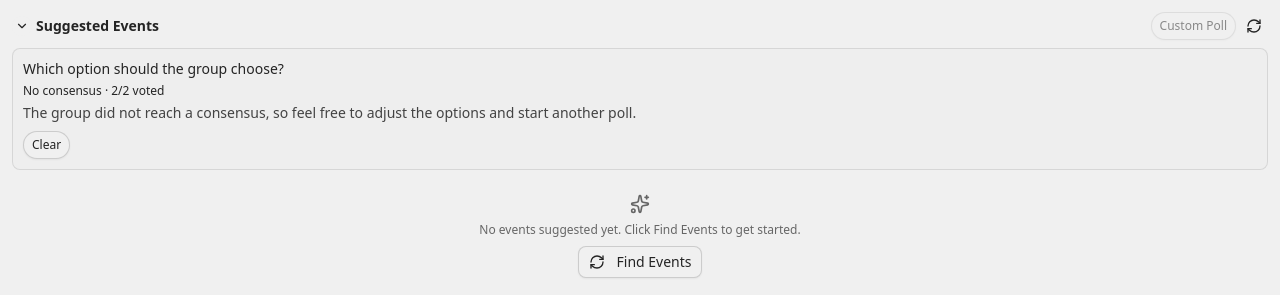
clears a no-consensus resolved poll from the panel
This screenshot has width=1280, height=295.
Check: the text "No consensus · 2/2 voted" is shown, box [23,82,164,99]
Check: the text "The group did not reach a consensus, so feel free to adjust the options and start another poll." is shown, box [23,103,636,122]
Click the button "Clear": x=47, y=145 [23,131,70,159]
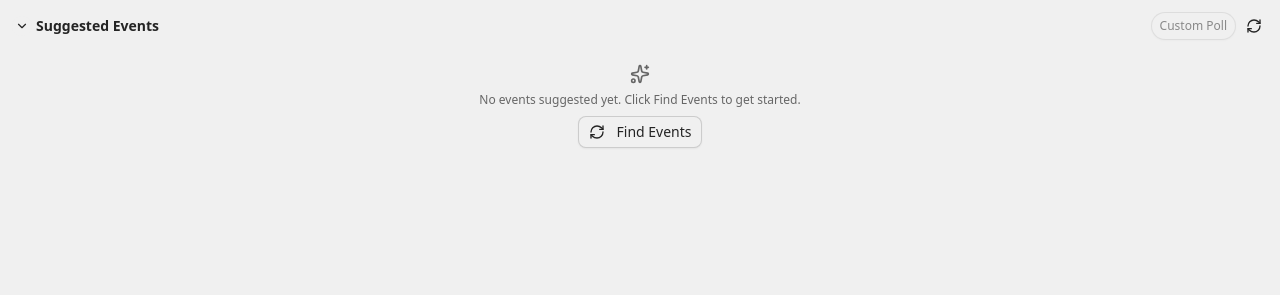
Check: the text "No consensus · 2/2 voted" is gone
Check: the text "The group did not reach a consensus, so feel free to adjust the options and start another poll." is gone
